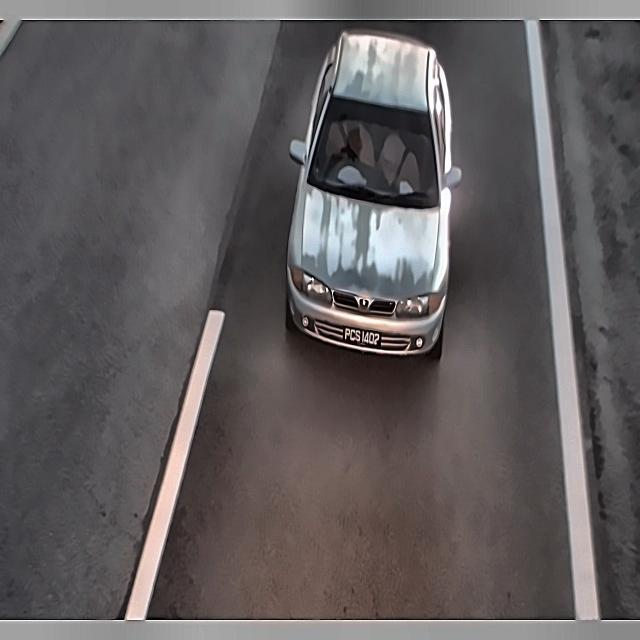car: (338, 324, 386, 349)
